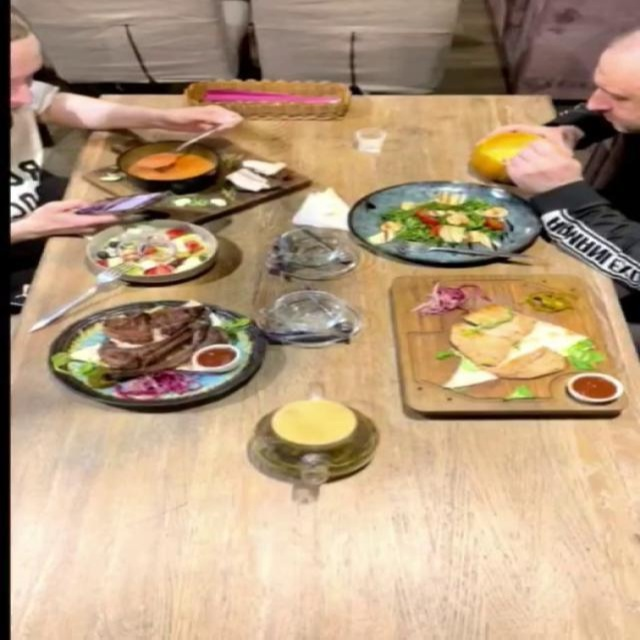meat: (381, 272, 629, 419), (46, 301, 269, 408)
salad: (351, 181, 544, 265), (84, 219, 219, 284)
soup: (79, 138, 314, 226), (431, 126, 585, 170)
tea: (228, 375, 384, 489)
